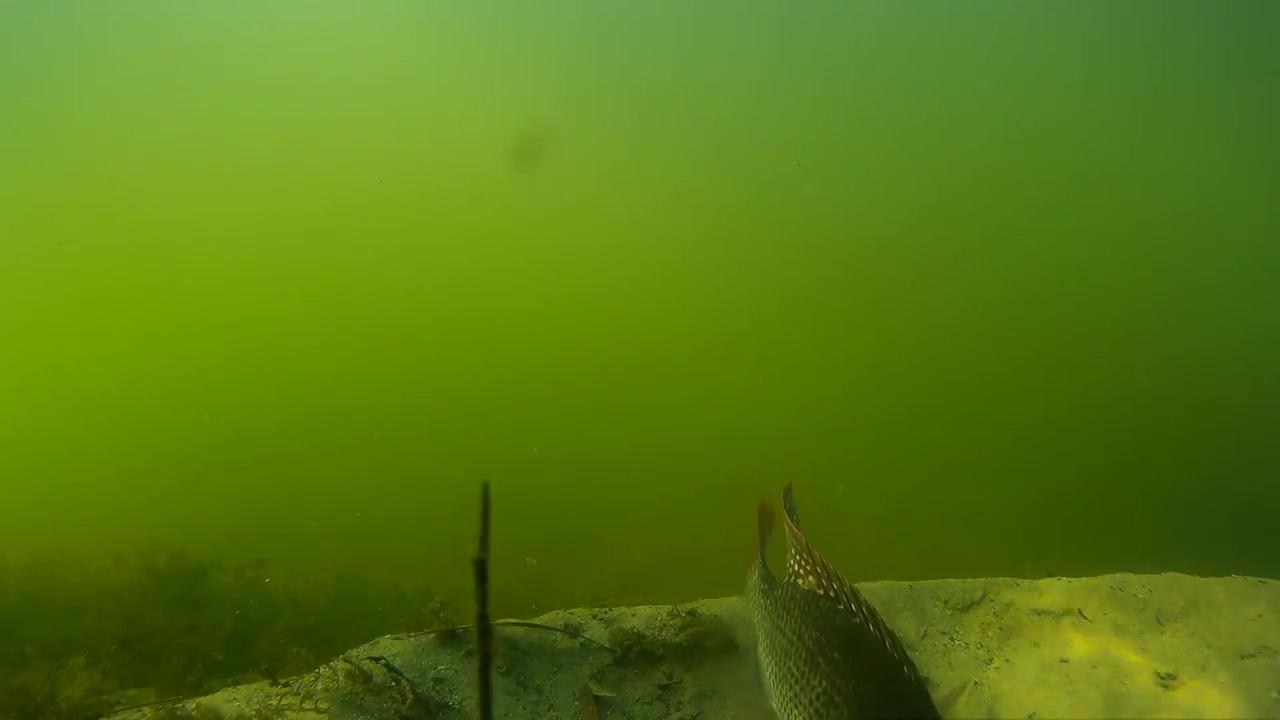Tilapia: (711, 482, 946, 720)
